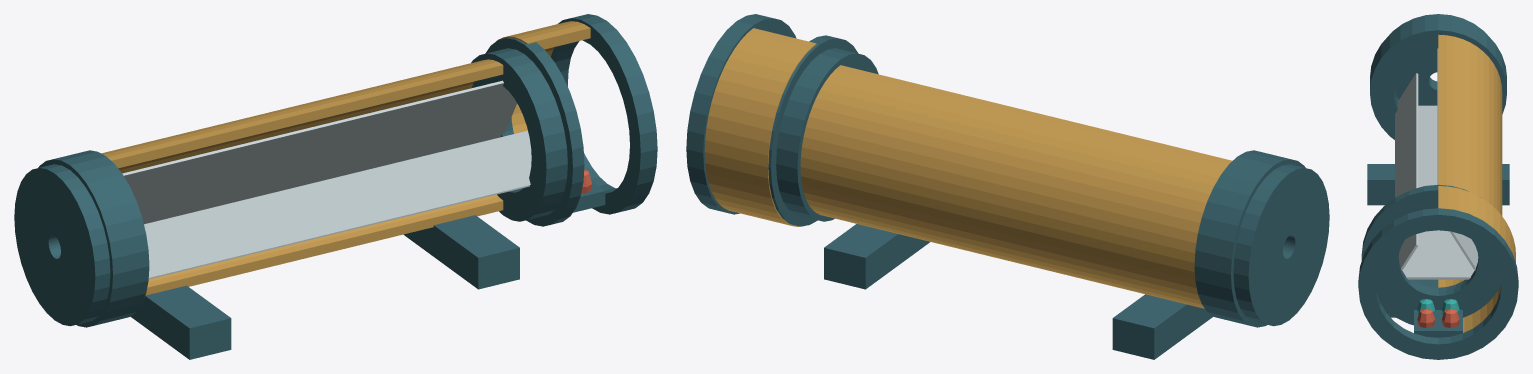
3 views of the same model, side by side, from view 1: azimuth 30°, elevation 25°; view 2: azimuth 150°, elevation 25°; view 3: azimuth 270°, elevation 25° (orthographic). The views are drawn at different scales.
Parts seen in each view (by area): view 1: WholeFarSlopedMirrorStylePlate, SectionedNearMirrorStylePlate, WholeLongitudinalHalfCutawayOuterCasing, WholeRearPeepholeEndPlate, WholeFrontCasingRetainingCollar, WholeRearCasingRetainingCollar, WholeSpecimenCellFrontOpenRetainingRim, WholeGroundFootAttachedSaddle_Front, WholeGroundFootAttachedSaddle_Rear, WholeSpecimenCellRearAnnularPartition, WholeSectionedSpecimenCellWall, WholeLowerMirrorStylePlate (+1 smaller); view 2: WholeLongitudinalHalfCutawayOuterCasing, WholeSectionedSpecimenCellWall, WholeRearPeepholeEndPlate, WholeRearCasingRetainingCollar, WholeFrontCasingRetainingCollar, WholeSpecimenCellFrontOpenRetainingRim, WholeGroundFootAttachedSaddle_Front, WholeGroundFootAttachedSaddle_Rear, WholeSpecimenCellRearAnnularPartition; view 3: WholeLongitudinalHalfCutawayOuterCasing, WholeSpecimenCellFrontOpenRetainingRim, WholeSpecimenCellRearAnnularPartition, WholeRearCasingRetainingCollar, WholeLowerMirrorStylePlate, SectionedNearMirrorStylePlate, WholeSectionedSpecimenCellWall, WholeRearPeepholeEndPlate, WholeGroundFootAttachedSaddle_Rear, WholeFarSlopedMirrorStylePlate, WholeSpecimenCellLowerSeat, WholeFrontCasingRetainingCollar (+5 smaller).
Part boxes in pixels (bbox=[...]): WholeFarSlopedMirrorStylePlate: bbox=[122, 80, 516, 224]; SectionedNearMirrorStylePlate: bbox=[144, 130, 531, 277]; WholeLongitudinalHalfCutawayOuterCasing: bbox=[101, 59, 503, 297]; WholeRearPeepholeEndPlate: bbox=[14, 164, 110, 326]; WholeFrontCasingRetainingCollar: bbox=[471, 48, 567, 221]; WholeRearCasingRetainingCollar: bbox=[38, 150, 149, 327]; WholeSpecimenCellFrontOpenRetainingRim: bbox=[551, 14, 657, 214]; WholeGroundFootAttachedSaddle_Front: bbox=[403, 215, 519, 289]; WholeGroundFootAttachedSaddle_Rear: bbox=[131, 285, 231, 359]; WholeSpecimenCellRearAnnularPartition: bbox=[485, 37, 584, 226]; WholeSectionedSpecimenCellWall: bbox=[496, 21, 590, 133]; WholeLowerMirrorStylePlate: bbox=[148, 185, 529, 279]; WholeLongitudinalHalfCutawayOuterCasing: bbox=[800, 65, 1232, 308]; WholeSectionedSpecimenCellWall: bbox=[704, 28, 816, 226]; WholeRearPeepholeEndPlate: bbox=[1233, 164, 1329, 326]; WholeRearCasingRetainingCollar: bbox=[1194, 150, 1305, 327]; WholeFrontCasingRetainingCollar: bbox=[776, 48, 878, 221]; WholeSpecimenCellFrontOpenRetainingRim: bbox=[686, 14, 796, 214]; WholeGroundFootAttachedSaddle_Front: bbox=[824, 224, 929, 289]; WholeGroundFootAttachedSaddle_Rear: bbox=[1112, 294, 1212, 359]; WholeSpecimenCellRearAnnularPartition: bbox=[768, 35, 858, 226]; WholeLongitudinalHalfCutawayOuterCasing: bbox=[1438, 34, 1502, 287]; WholeSpecimenCellFrontOpenRetainingRim: bbox=[1358, 208, 1518, 359]; WholeSpecimenCellRearAnnularPartition: bbox=[1361, 185, 1500, 325]; WholeRearCasingRetainingCollar: bbox=[1370, 16, 1506, 139]; WholeLowerMirrorStylePlate: bbox=[1402, 105, 1474, 279]; SectionedNearMirrorStylePlate: bbox=[1395, 73, 1418, 270]; WholeSectionedSpecimenCellWall: bbox=[1438, 186, 1515, 332]; WholeRearPeepholeEndPlate: bbox=[1389, 14, 1487, 105]; WholeGroundFootAttachedSaddle_Rear: bbox=[1367, 164, 1509, 205]; WholeFarSlopedMirrorStylePlate: bbox=[1437, 48, 1478, 270]; WholeSpecimenCellLowerSeat: bbox=[1414, 310, 1462, 337]; WholeFrontCasingRetainingCollar: bbox=[1409, 184, 1467, 291].
Size of the model in its own units: 0.622 by 0.208 by 0.196.
